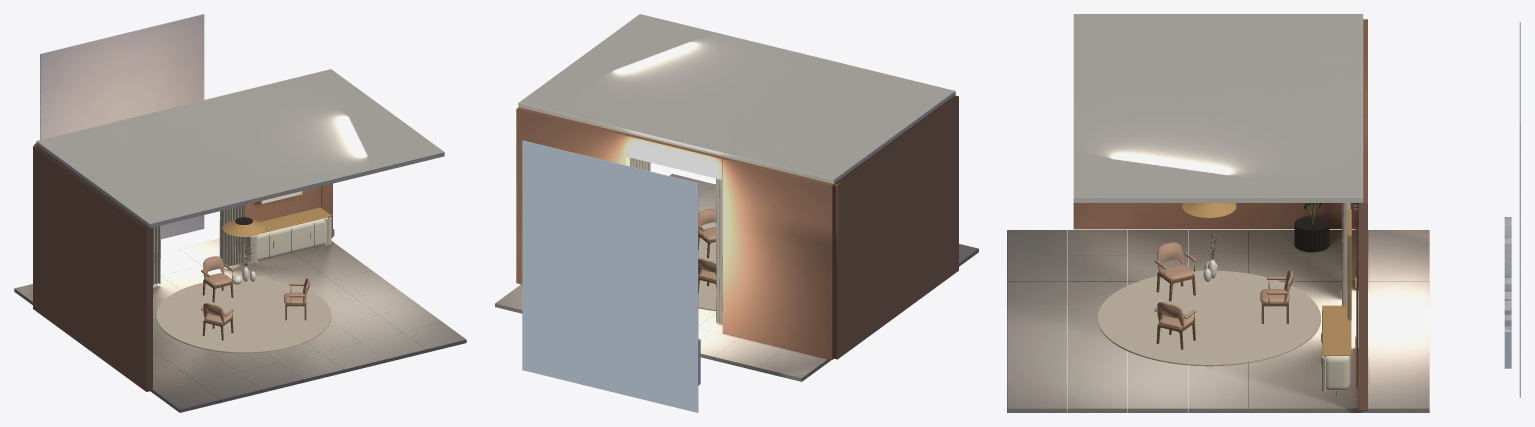
Rendered from salon-baked-interior.glb.
3 views of the same model, side by side, from view 1: azimuth 30°, elevation 25°; view 2: azimuth 150°, elevation 25°; view 3: azimuth 270°, elevation 25° (orthographic). The views are drawn at different scales.
Parts seen in each view (by area): view 1: Studio baked architecture, Circular woven rug, Rounded credenza, Tailored curtain.001, Bronze cabinet top, Bronze disc pendant, Tailored curtain; view 2: Studio baked architecture, Tailored curtain, Circular woven rug; view 3: Studio baked architecture, Circular woven rug, Bronze cabinet top, Rounded credenza, Tree planter, Bronze disc pendant, Tailored curtain.001, Upholstered tailored wraparound back.001.
Part boxes in pixels (x1=…): Studio baked architecture: x1=14, y1=14, x2=466, y2=412; Circular woven rug: x1=156, y1=278, x2=331, y2=353; Rounded credenza: x1=244, y1=217, x2=328, y2=261; Tailored curtain.001: x1=219, y1=205, x2=244, y2=267; Bronze cabinet top: x1=260, y1=207, x2=331, y2=233; Bronze disc pendant: x1=222, y1=220, x2=265, y2=236; Tailored curtain: x1=153, y1=225, x2=160, y2=285; Studio baked architecture: x1=495, y1=14, x2=978, y2=412; Tailored curtain: x1=715, y1=178, x2=722, y2=323; Circular woven rug: x1=698, y1=237, x2=716, y2=310; Studio baked architecture: x1=1007, y1=14, x2=1520, y2=412; Circular woven rug: x1=1097, y1=270, x2=1320, y2=366; Bronze cabinet top: x1=1322, y1=305, x2=1351, y2=355; Rounded credenza: x1=1324, y1=356, x2=1350, y2=390; Tree planter: x1=1295, y1=216, x2=1328, y2=252; Bronze disc pendant: x1=1182, y1=203, x2=1236, y2=217; Tailored curtain.001: x1=1342, y1=203, x2=1350, y2=305; Upholstered tailored wraparound back.001: x1=1157, y1=242, x2=1183, y2=270.
Size of the model in its own units: 7.28 by 5 by 8.51.
13 materials, 3 textured.
